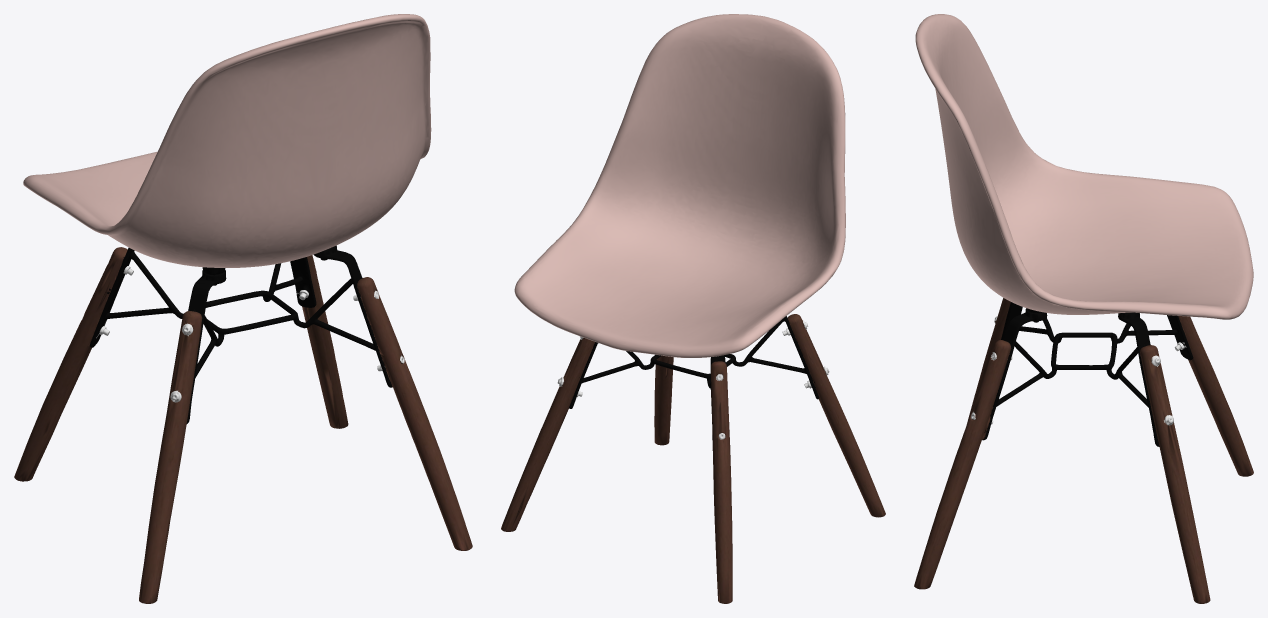
File: ND-0607__Elon2.glb
3 views of the same model, side by side, from view 1: azimuth 30°, elevation 25°; view 2: azimuth 150°, elevation 25°; view 3: azimuth 270°, elevation 25° (orthographic). The views are drawn at different scales.
Parts seen in each view (by area): view 1: tripo_node_aeb78299-7747-400a-b60e-9c411fa0cf6e, tripo_node_aeb78299-7747-400a-b60e-9c411fa0cf6e.001, tripo_node_aeb78299-7747-400a-b60e-9c411fa0cf6e.003; view 2: tripo_node_aeb78299-7747-400a-b60e-9c411fa0cf6e, tripo_node_aeb78299-7747-400a-b60e-9c411fa0cf6e.001, tripo_node_aeb78299-7747-400a-b60e-9c411fa0cf6e.003; view 3: tripo_node_aeb78299-7747-400a-b60e-9c411fa0cf6e, tripo_node_aeb78299-7747-400a-b60e-9c411fa0cf6e.001, tripo_node_aeb78299-7747-400a-b60e-9c411fa0cf6e.003.
Boxes of the visible parts, <box> form: tripo_node_aeb78299-7747-400a-b60e-9c411fa0cf6e: <box>23,14,431,267</box>; tripo_node_aeb78299-7747-400a-b60e-9c411fa0cf6e.001: <box>14,247,472,603</box>; tripo_node_aeb78299-7747-400a-b60e-9c411fa0cf6e.003: <box>89,245,392,423</box>; tripo_node_aeb78299-7747-400a-b60e-9c411fa0cf6e: <box>514,14,845,357</box>; tripo_node_aeb78299-7747-400a-b60e-9c411fa0cf6e.001: <box>501,314,885,603</box>; tripo_node_aeb78299-7747-400a-b60e-9c411fa0cf6e.003: <box>569,316,819,450</box>; tripo_node_aeb78299-7747-400a-b60e-9c411fa0cf6e: <box>915,14,1253,319</box>; tripo_node_aeb78299-7747-400a-b60e-9c411fa0cf6e.001: <box>914,298,1253,603</box>; tripo_node_aeb78299-7747-400a-b60e-9c411fa0cf6e.003: <box>982,302,1193,446</box>.
Bounding box in the file's own units: 0.6284 × 0.9794 × 0.61.
10 materials, 2 textured.
